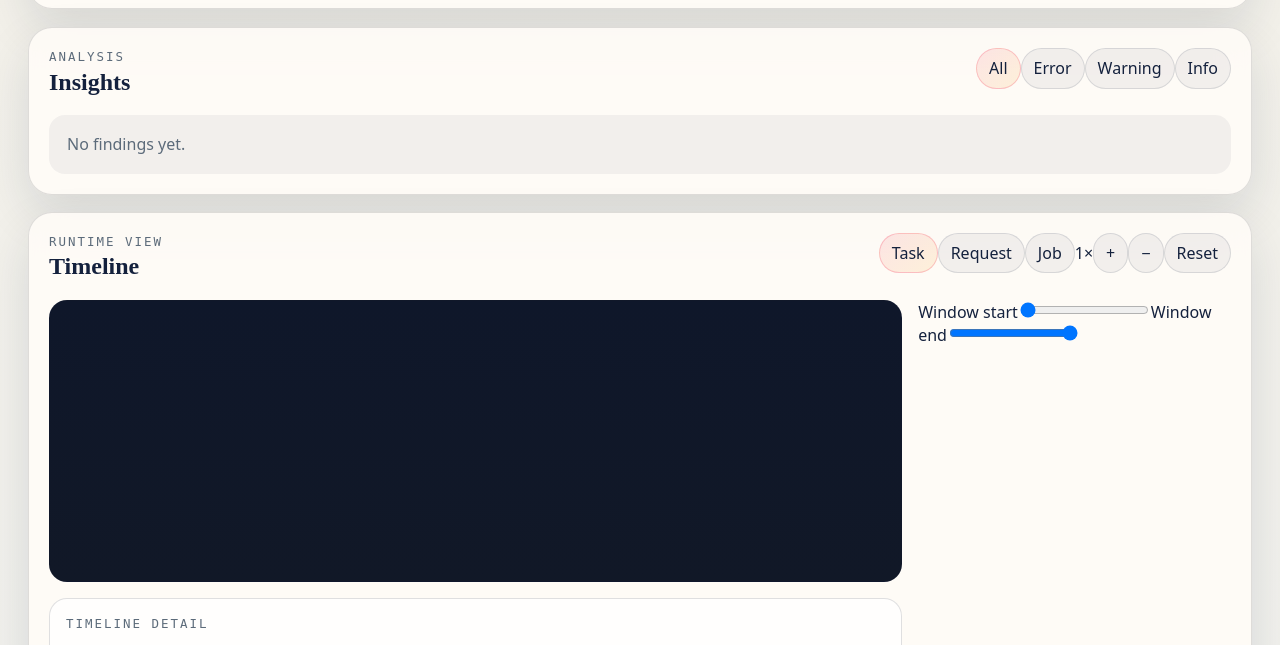
App › time window scrubber filters the task list to the selected window
(page scrolled)
# Narrow window end to 50 % → only early-task (0–33 %) is visible
Set the slider labelled "Window end" to "50" at point(1013, 334), box [949,326,1078,342]
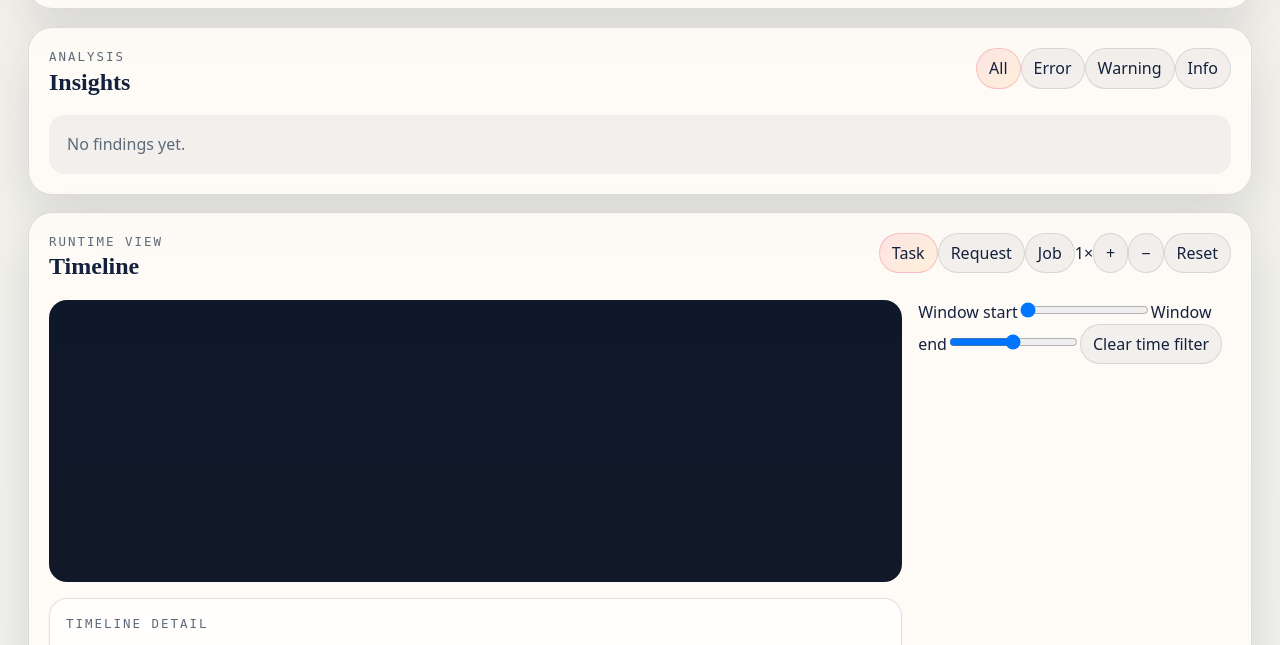
# Clear time filter → both tasks visible again
Click the button "Clear time filter" at point(1151, 344), box [1080,324,1222,364]
(page scrolled)
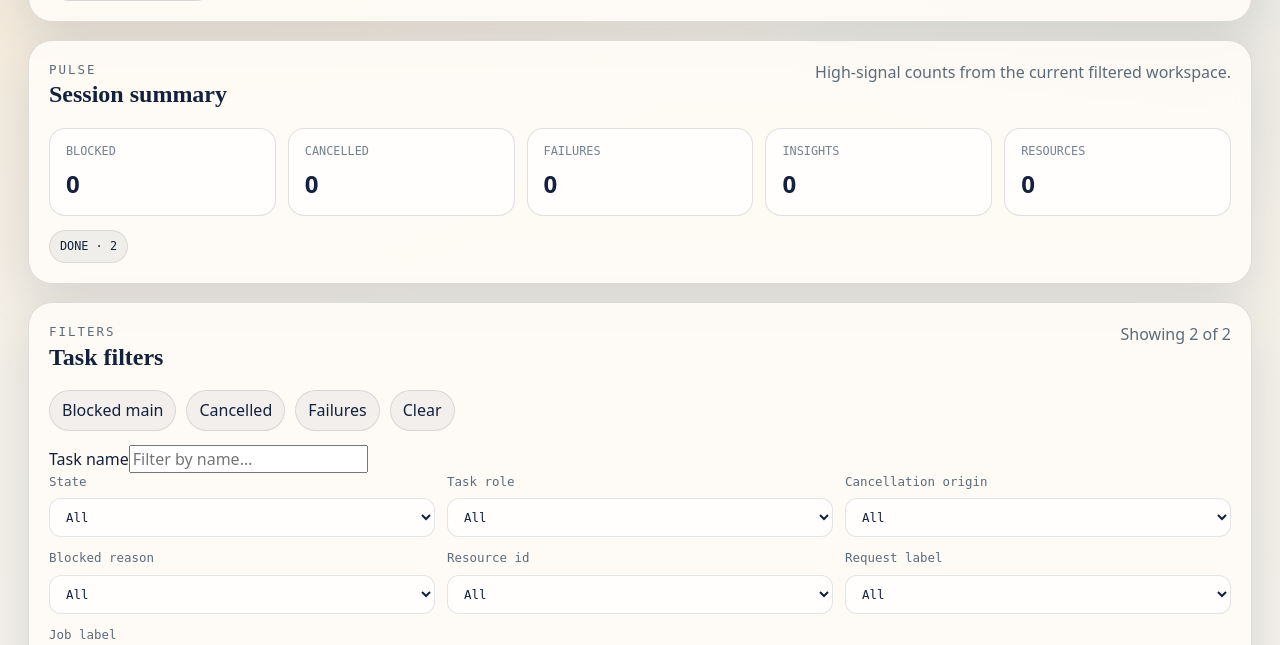
Check: the text "Showing 2 of 2" is shown, box [1121,323,1231,345]
